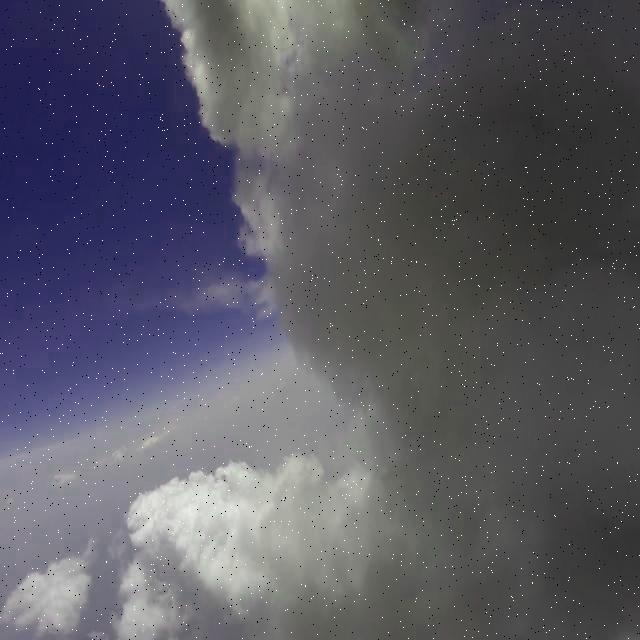Plume: (258, 1, 640, 640)
